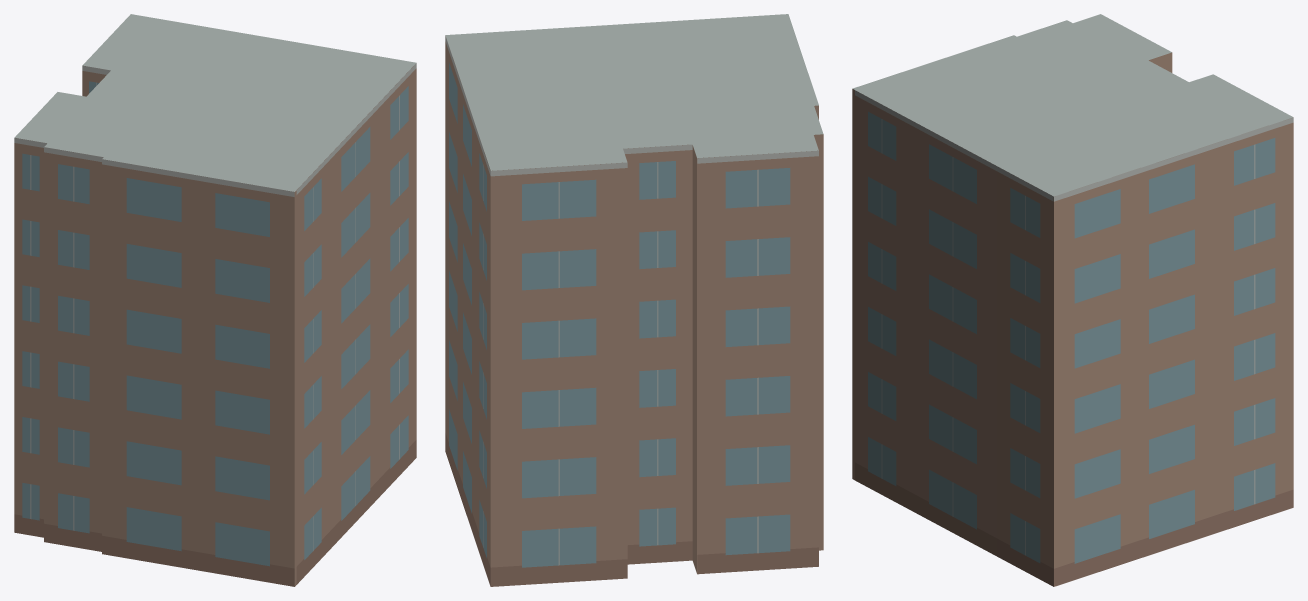
Rendered from survey-upis-32757377.glb.
3 views of the same model, side by side, from view 1: azimuth 30°, elevation 25°; view 2: azimuth 150°, elevation 25°; view 3: azimuth 270°, elevation 25° (orthographic). The views are drawn at different scales.
Parts seen in each view (by area): view 1: survey-upis-32757377.tmp; view 2: survey-upis-32757377.tmp; view 3: survey-upis-32757377.tmp.
Boxes of the visible parts, x1,y1,x2,y2 form: survey-upis-32757377.tmp: (14,14,416,586); survey-upis-32757377.tmp: (445,14,823,586); survey-upis-32757377.tmp: (852,14,1293,586).
Bounding box in the file's own units: 18.36 × 18.3 × 18.76.
